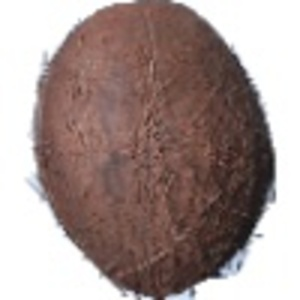coco: (28, 1, 278, 300)
